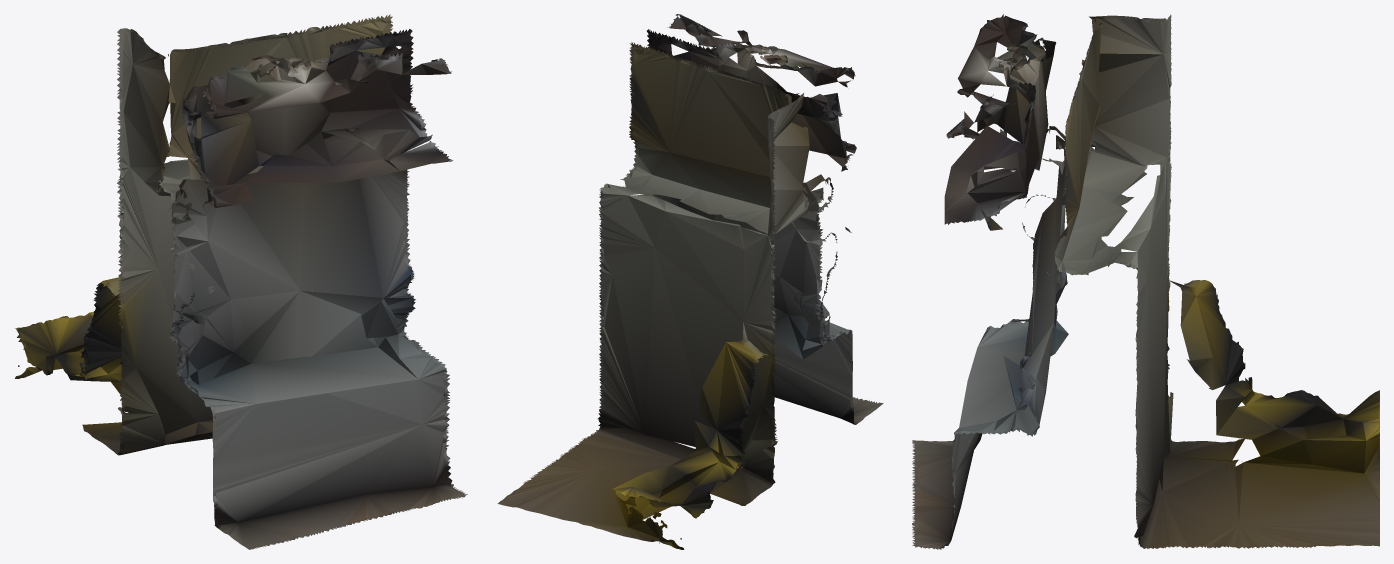
The model's file is coarse.glb.
The picture shows the model from 3 angles, left to right: view 1: azimuth 30°, elevation 25°; view 2: azimuth 150°, elevation 25°; view 3: azimuth 270°, elevation 25°; orthographic projection. The views are drawn at different scales.
Size of the model in its own units: 0.6999 by 1.29 by 1.27.
